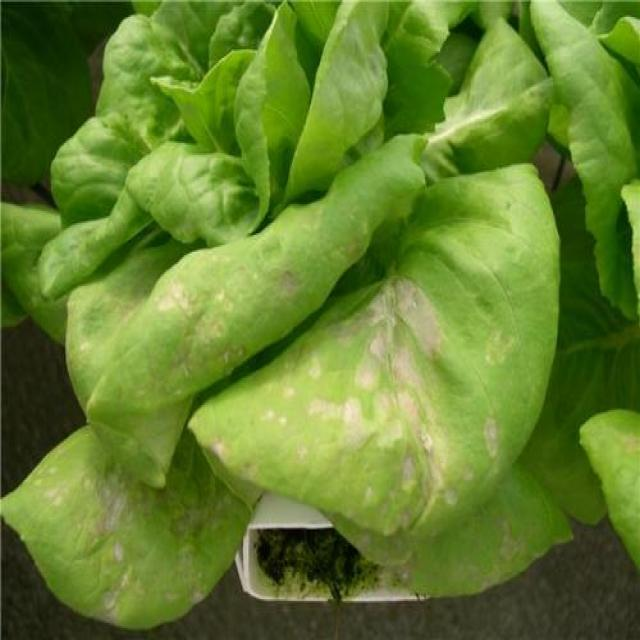Lettuce: (0, 0, 590, 629)
